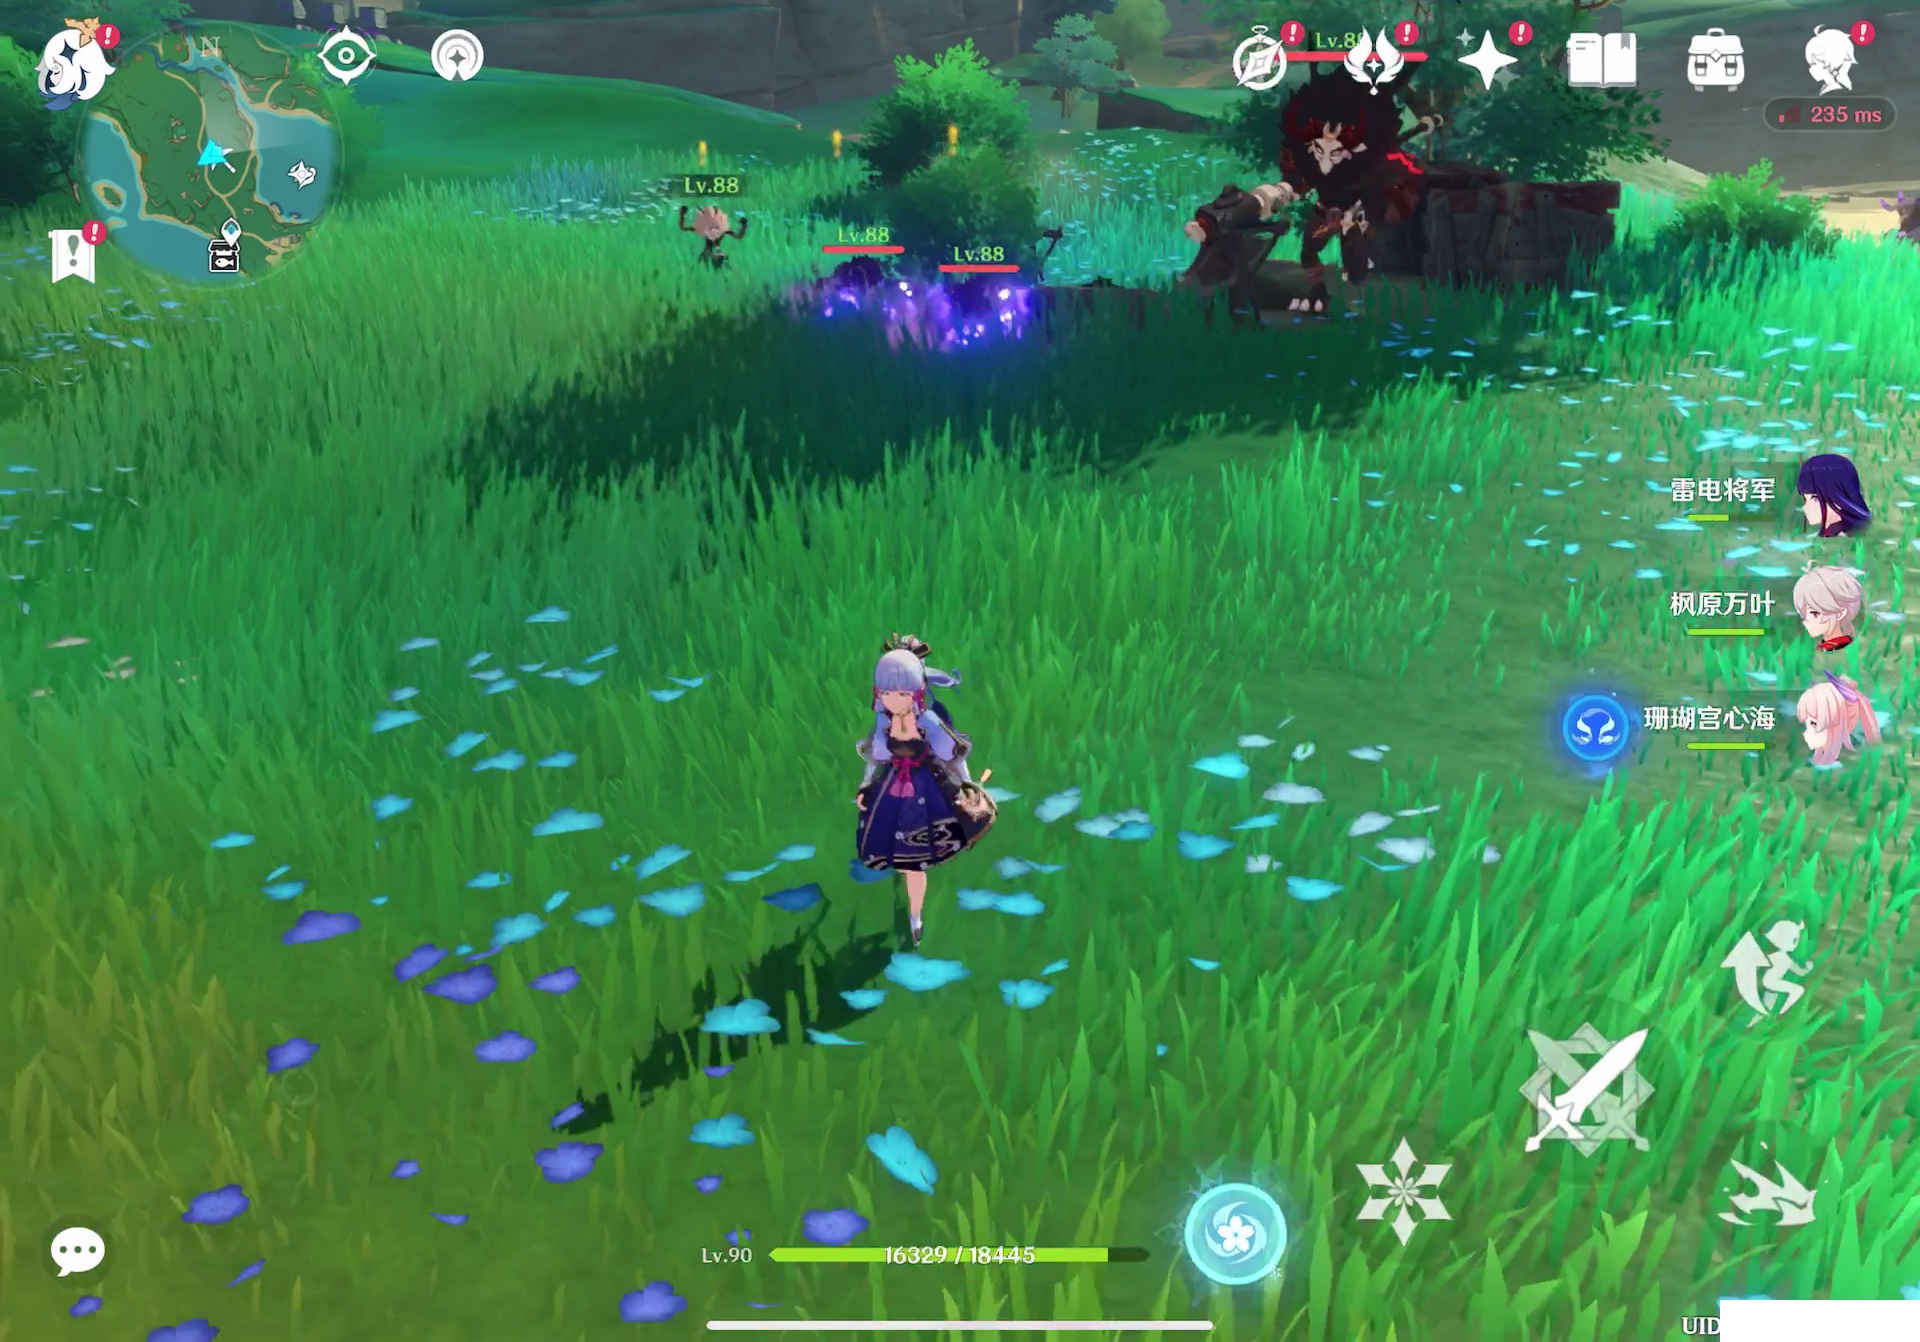NTR: (1228, 96, 1428, 318)
丘丘人: (922, 286, 1059, 363), (684, 207, 767, 280), (829, 263, 909, 321)
神里绫龟: (783, 608, 1030, 942)
